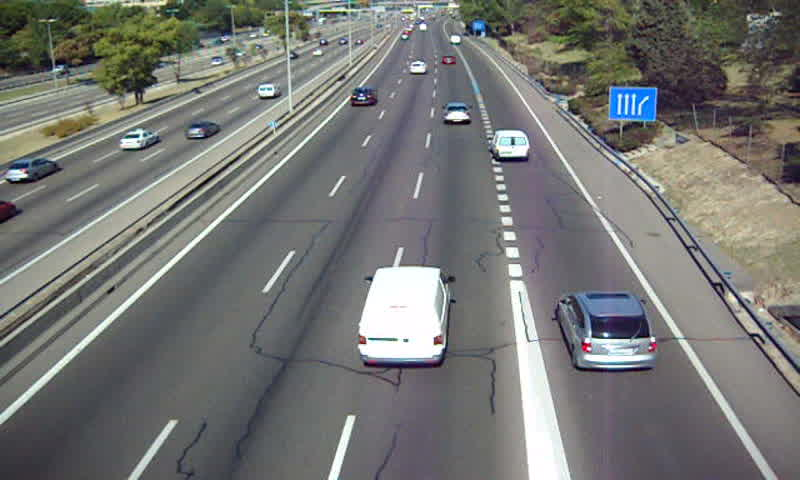car: (557, 292, 657, 369), (441, 102, 474, 125), (350, 86, 376, 107), (409, 58, 428, 75), (441, 54, 457, 66)
van: (357, 266, 449, 368), (493, 130, 530, 161)
